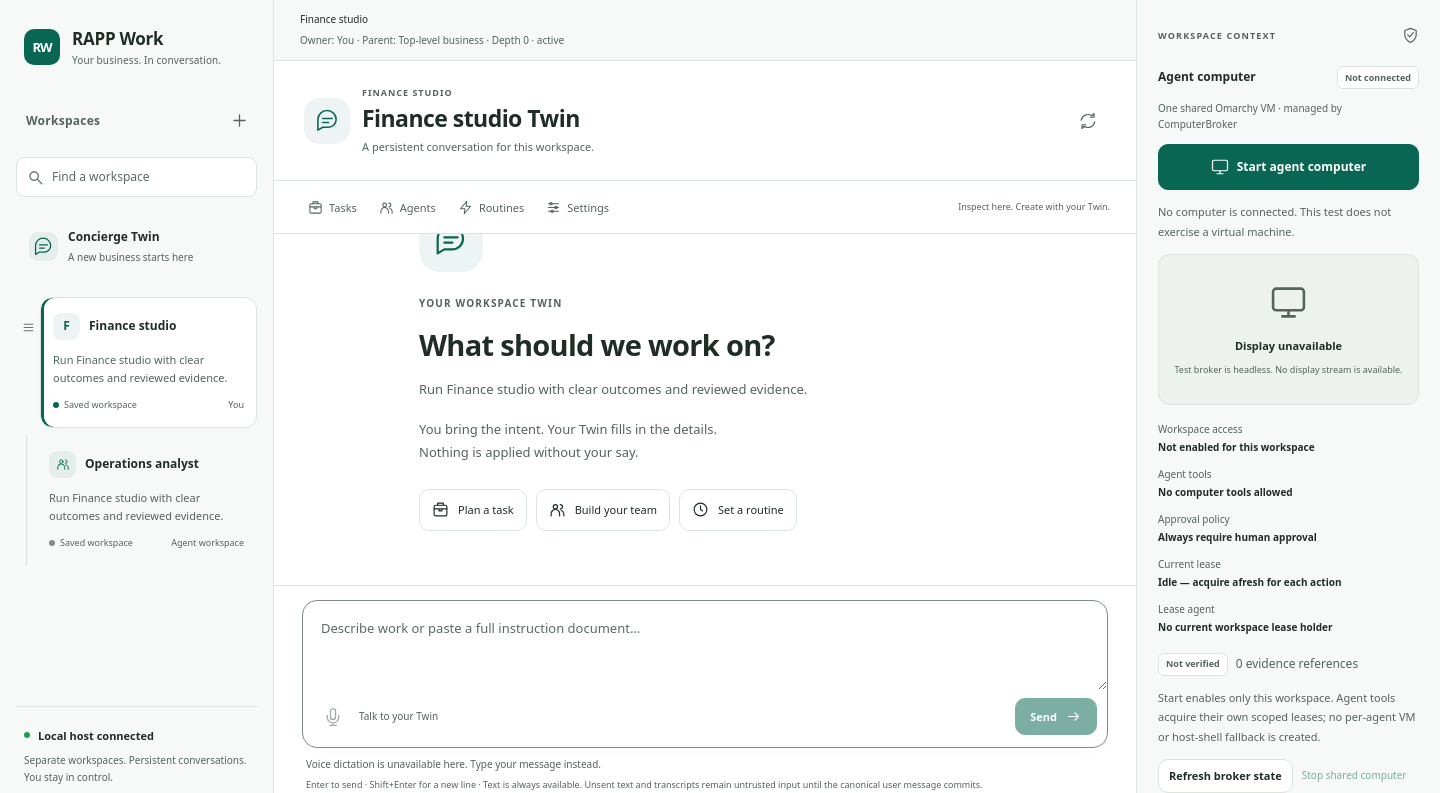
Test case: conversation-first business workspaces › drafts and prefills Create a daily routine to review invoices at 9am.
(page scrolled)
Expected: the text "Local host connected" is shown, [38, 727, 154, 744]
Type "Create a daily routine to review invoices at 9am." into the text box named "Message your Work Twin" at (705, 645), box [303, 601, 1107, 690]
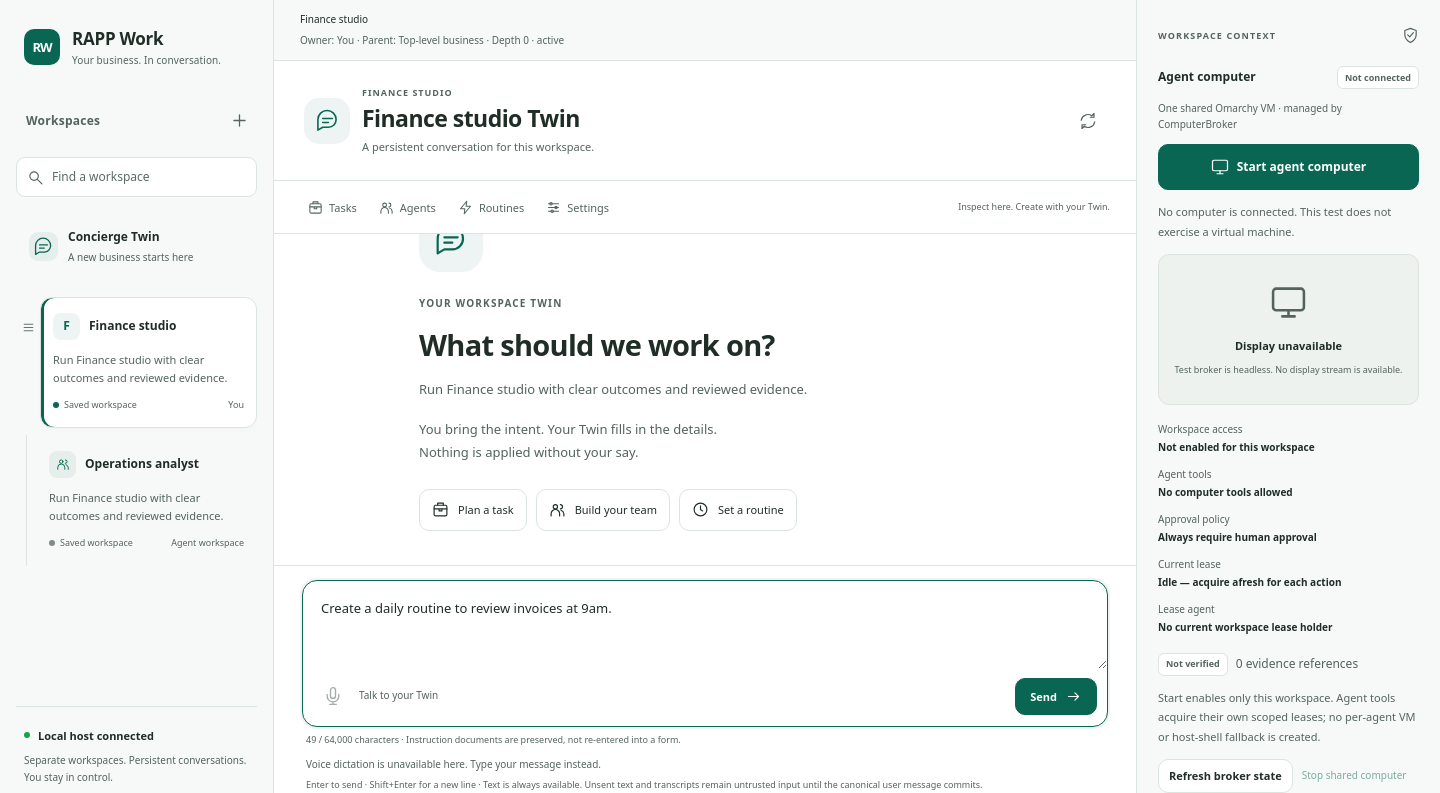
Expected: the button "Send" is enabled
Click the button "Send" at (1056, 696), box [1015, 678, 1097, 715]
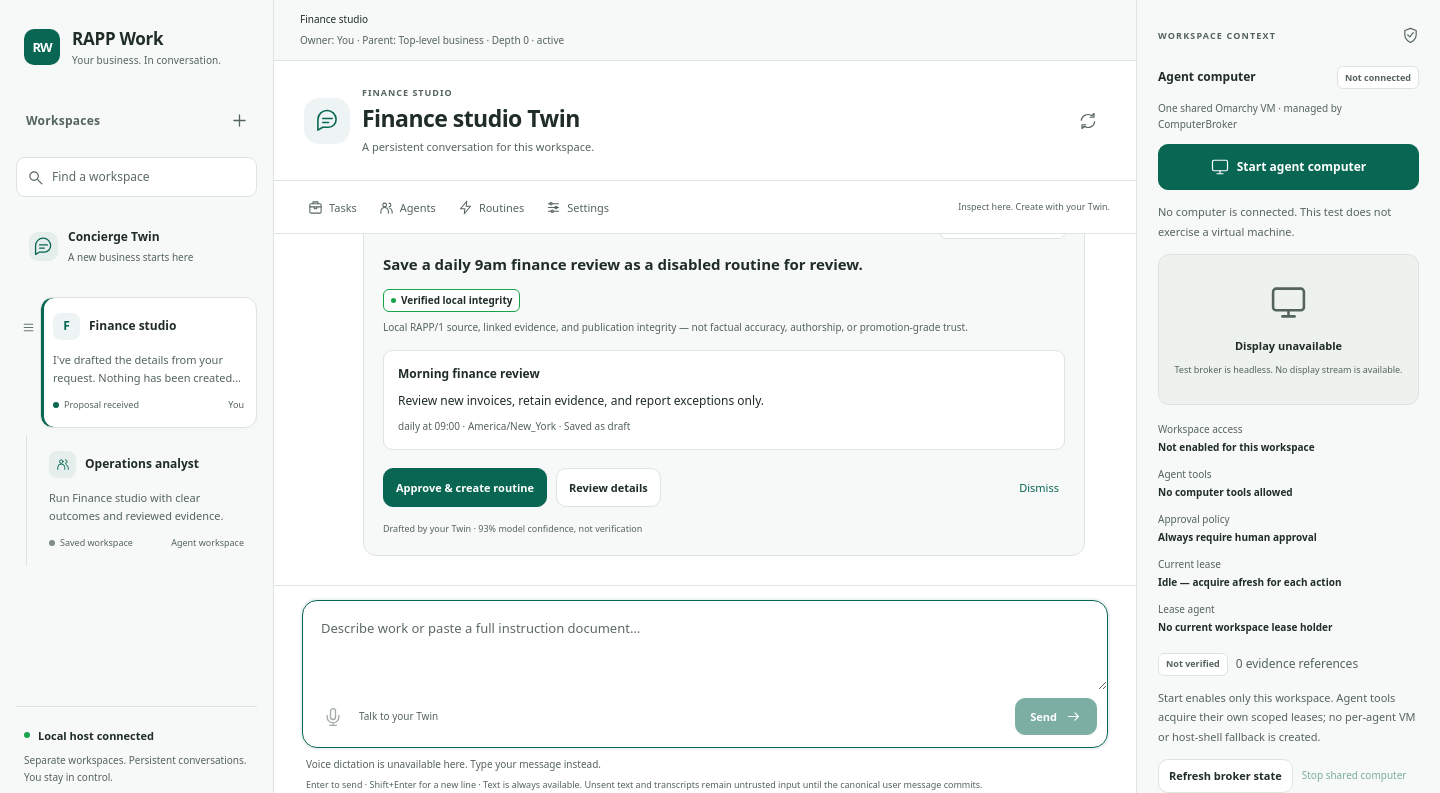
Click the button "Review details" at (608, 488), box [556, 468, 661, 507]
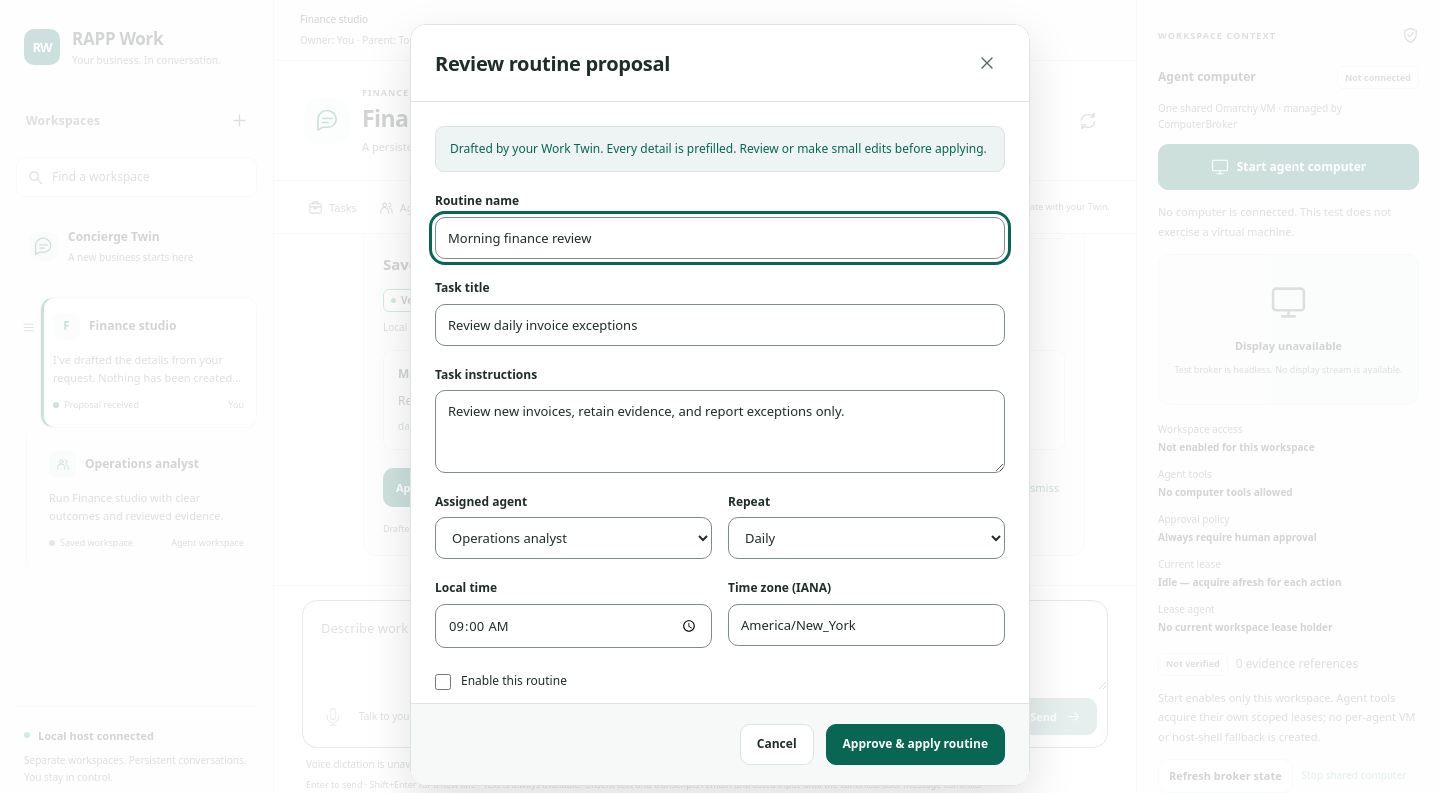
Expected: the field labelled "Routine name" holds "Morning finance review", [435, 217, 1005, 259]
Expected: the field labelled "Routine name" is not empty, [435, 217, 1005, 259]
Expected: the field labelled "Task title" is not empty, [435, 304, 1005, 346]
Click the button "Approve & apply routine" at (915, 745), box [826, 724, 1005, 765]
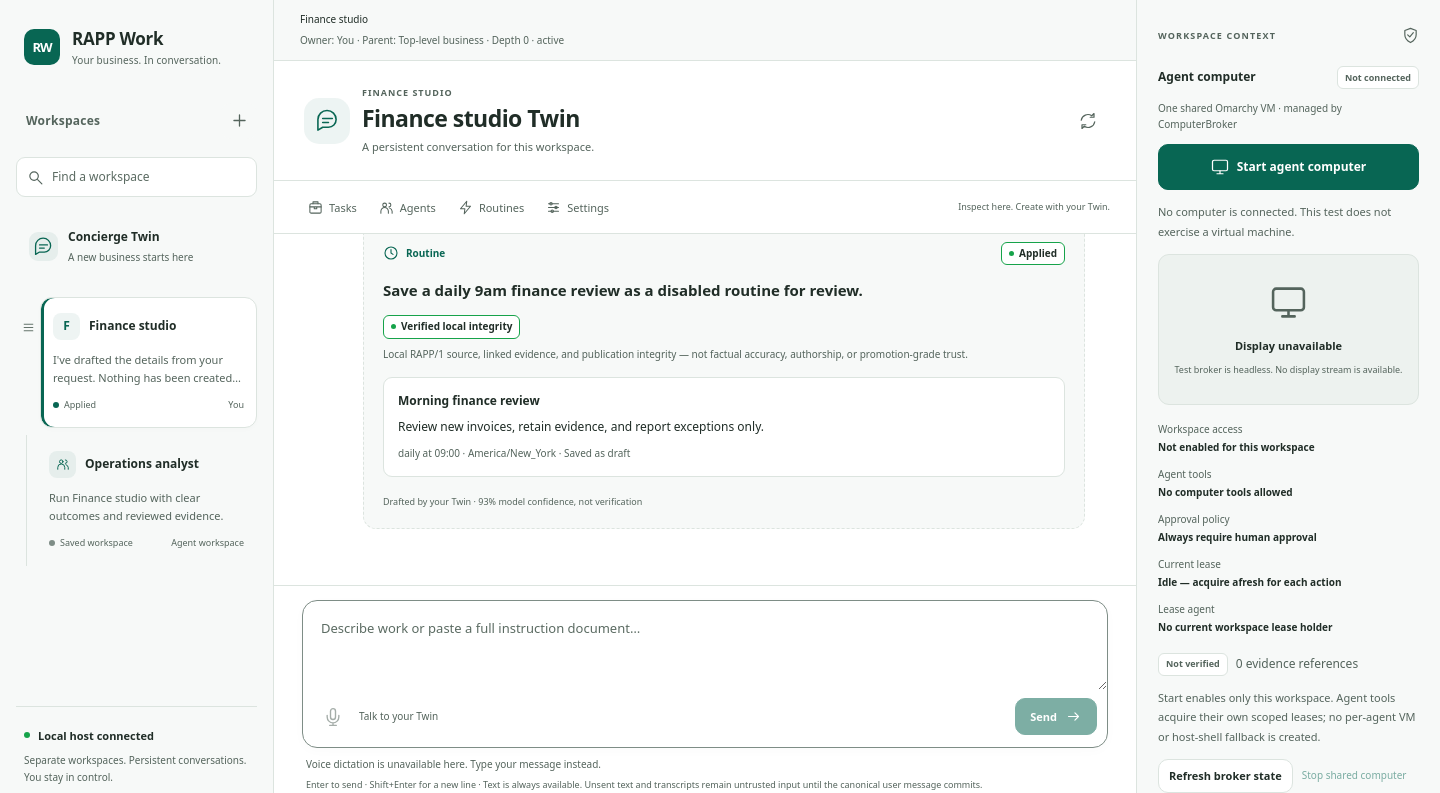
Expected: the dialog is gone
Expected: the text "Applied" is shown, [1001, 242, 1065, 265]
